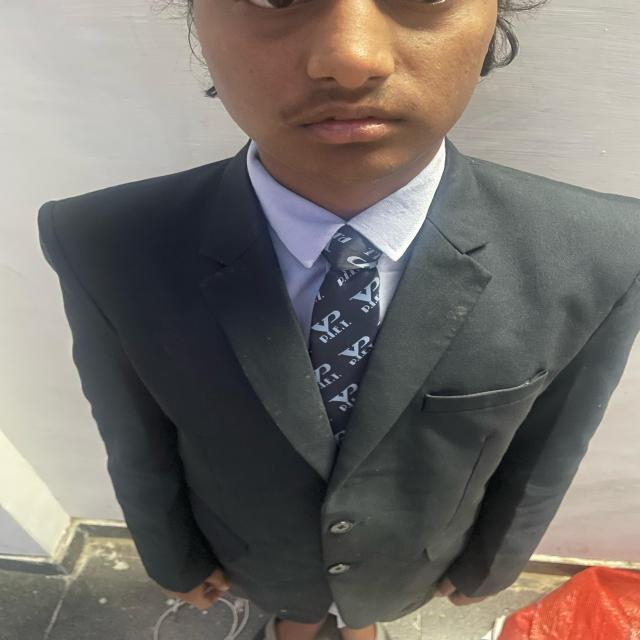Tie: (307, 225, 383, 445)
uniform: (36, 135, 639, 630)
